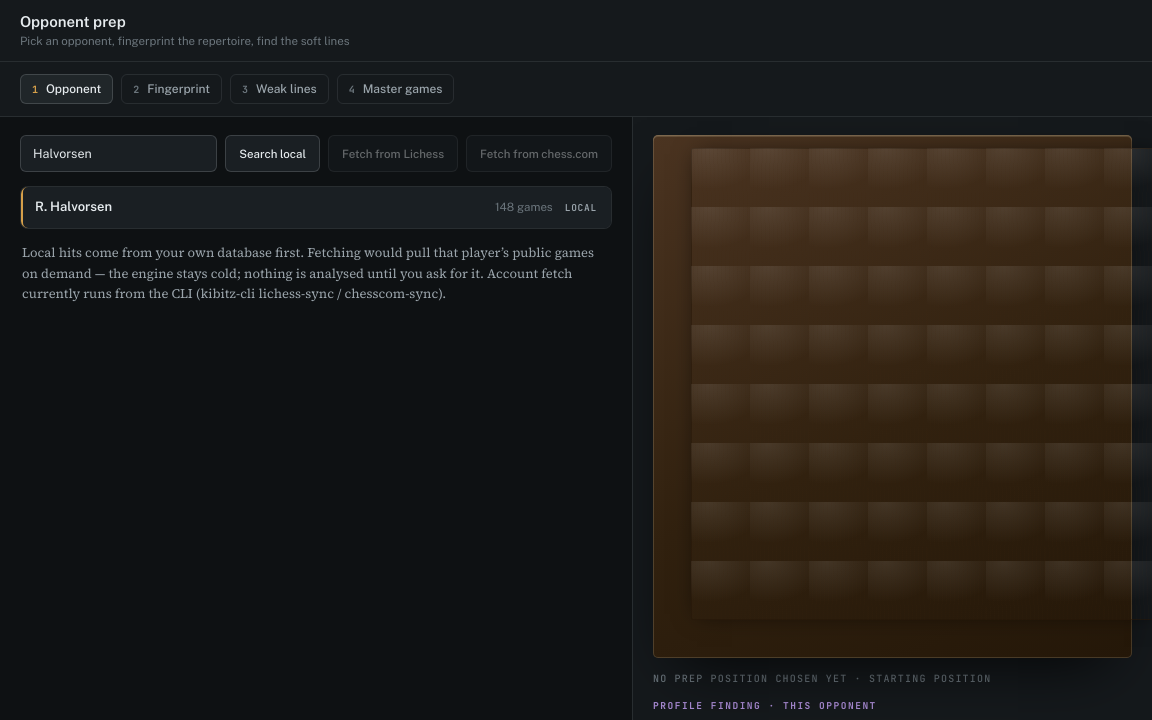
it: Prep — stepper persistence and back-navigation › selection advances to step 2, chips keep their values, back-nav is free
Click the text "R. Halvorsen" at (74, 206), box x1=35 y1=199 x2=112 y2=214
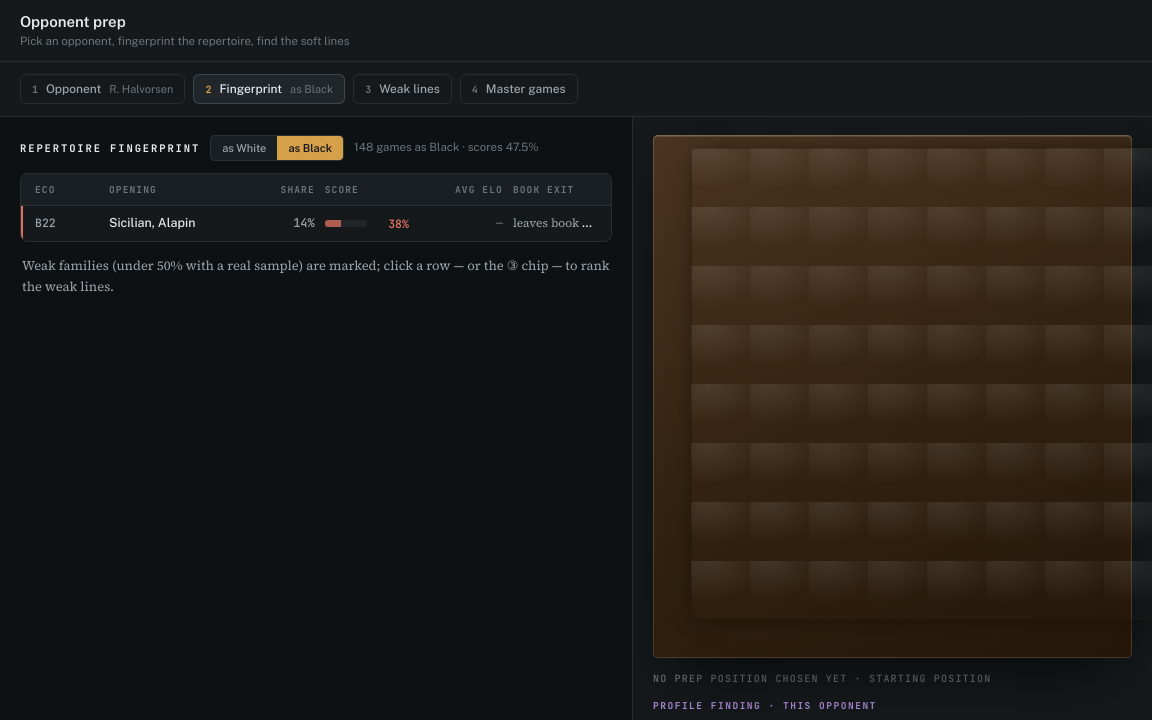
Expected: the text "R. Halvorsen" is shown, x1=109 y1=83 x2=173 y2=95
Now the text "Sicilian, Alapin" is shown, box x1=109 y1=215 x2=196 y2=230
Now the text "as Black" is shown, box x1=290 y1=83 x2=333 y2=95
Note: Free backward navigation: chip ① → step 1, selections intact.
Click the text "Opponent" at (74, 89), box x1=46 y1=82 x2=101 y2=96
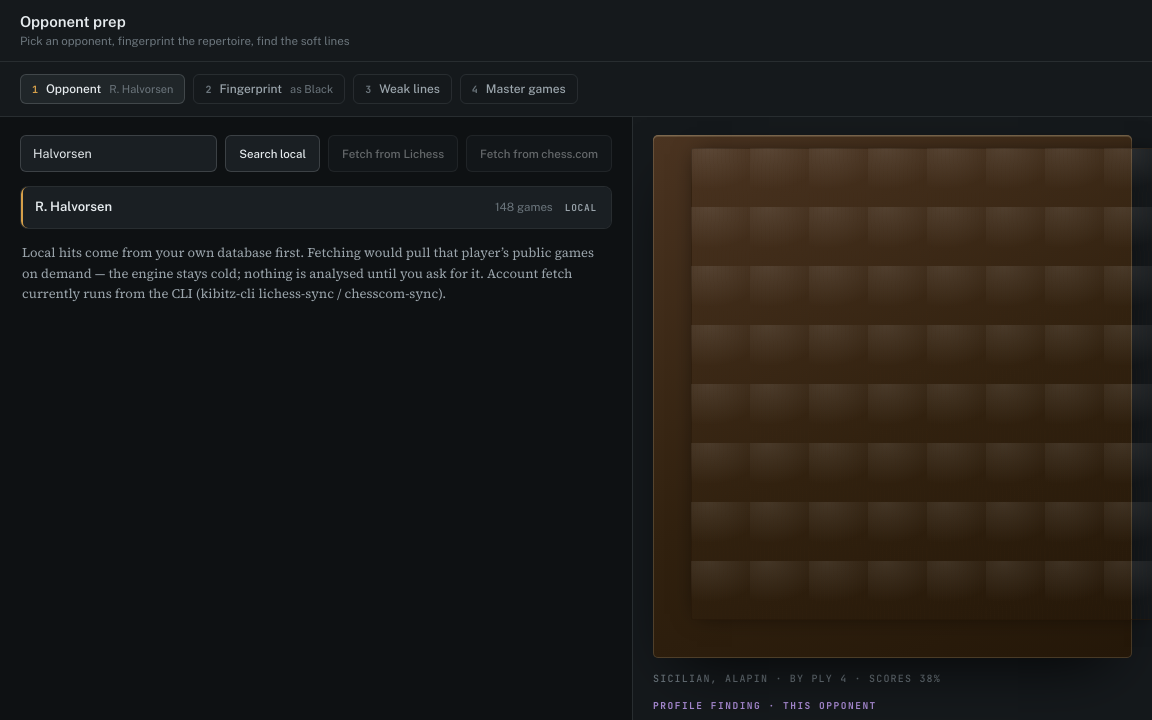
Now the field with placeholder "Opponent name…" holds "Halvorsen", box x1=20 y1=135 x2=217 y2=172
Note: Forward onto a reached step works too.
Click the text "Fingerprint" at (251, 89), box x1=219 y1=82 x2=282 y2=96
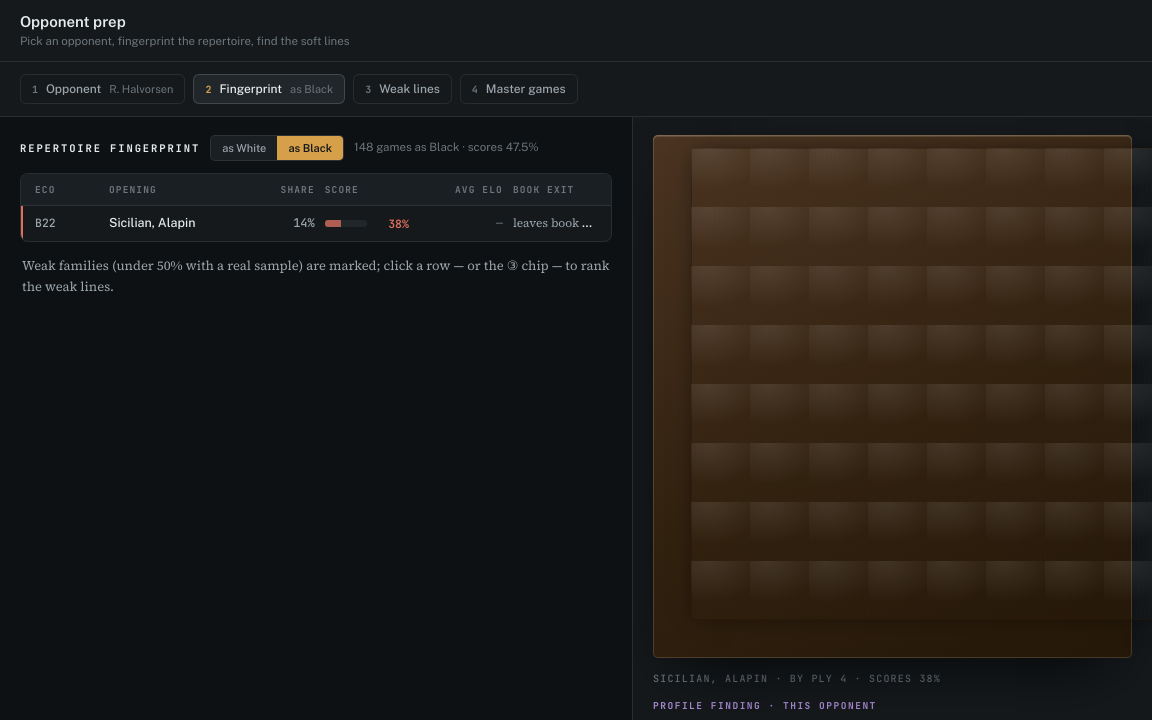
Now the text "REPERTOIRE FINGERPRINT" is shown, box x1=20 y1=141 x2=200 y2=155
